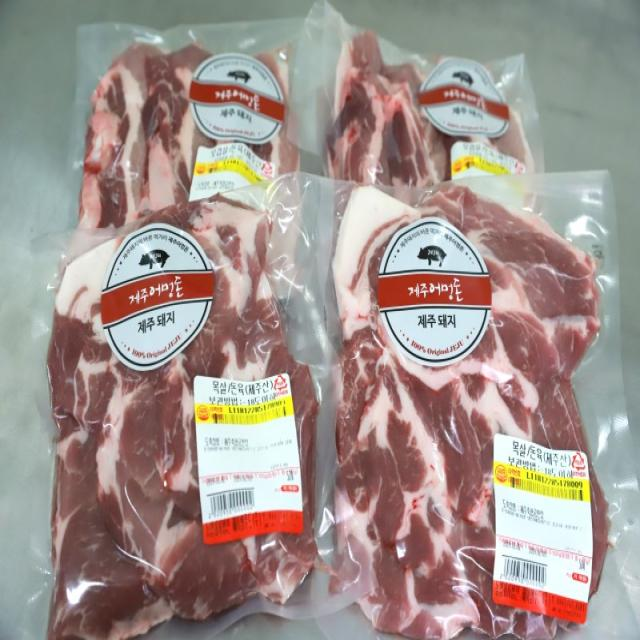pork: (317, 183, 595, 640), (53, 201, 292, 640), (75, 33, 308, 210), (320, 18, 526, 167)
